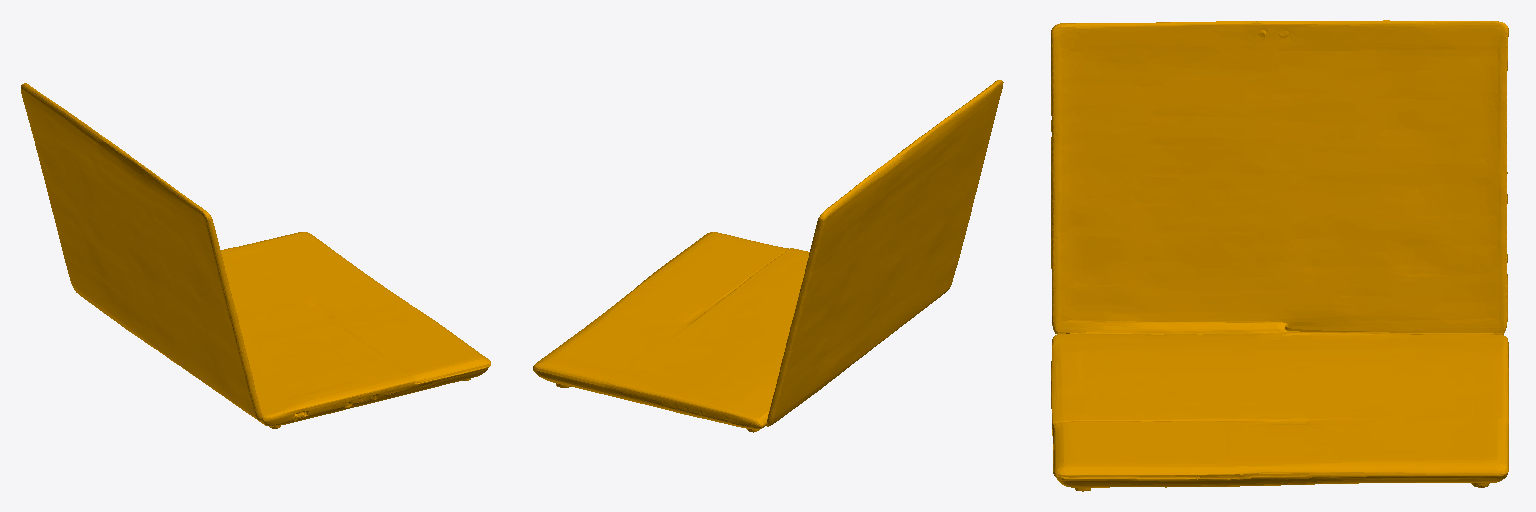
The robot description file, URDF, robot "sample":
<?xml version="1.0" ?>
<robot name="sample">
   <link name="sample">
      <visual>
         <origin xyz="0 0 0" rpy="1.5708 0.0 0.0"/>
         <geometry>
            <mesh filename="mesh/sample.obj" scale="1.0 1.0 1.0"/>
         </geometry>
      </visual>
      <collision>
         <origin xyz="0 0 0" rpy="1.5708 0.0 0.0"/>
         <geometry>
            <mesh filename="mesh/sample_collision.obj" scale="1.0 1.0 1.0"/>
         </geometry>
         <gazebo>
            <mu1>0.70</mu1>
            <mu2>0.55</mu2>
         </gazebo>
      </collision>
      <inertial>
         <mass value="2.0000"/>
         <origin xyz="0 0 0"/>
         <inertia ixx="1.0" ixy="0.0" ixz="0.0" iyy="1.0" iyz="0.0" izz="1.0"/>
      </inertial>
      <extra_info>
         <scale>0.444201</scale>
         <version>v0.1.7</version>
         <category>laptop</category>
         <description>open laptop with colorful screen and black keyboard</description>
         <min_height>0.3</min_height>
         <max_height>0.35</max_height>
         <real_height>0.325</real_height>
         <min_mass>1.5</min_mass>
         <max_mass>2.5</max_mass>
         <generate_time>20260401100610</generate_time>
         <gs_model>mesh/sample_gs.ply</gs_model>
      </extra_info>
   </link>
   <custom_data>
      <quality>
         <MeshGeoChecker>YES</MeshGeoChecker>
         <ImageSegChecker>NO, object is not fully centered and has visible background artifacts around edges.</ImageSegChecker>
         <ImageAestheticChecker>5.008011698722839</ImageAestheticChecker>
         <overall>NO</overall>
      </quality>
   </custom_data>
</robot>

--- Render facts (derived) ---
Views: 3 orthographic renders of the robot side by side, from view 1: azimuth 30°, elevation 25°; view 2: azimuth 150°, elevation 25°; view 3: azimuth 270°, elevation 25°.
Robot: sample — 1 links, 0 joints (none); root link sample; default pose: all joints at 0.
Visible links, largest first — view 1: sample; view 2: sample; view 3: sample.
Link boxes in pixels (x1=…): sample: x1=21, y1=83, x2=490, y2=428; sample: x1=533, y1=80, x2=1003, y2=432; sample: x1=1051, y1=20, x2=1508, y2=491.
Size in the robot's own frame: 0.4122 by 0.4442 by 0.325 metres.
Meshes: 1 distinct files referenced, 1 mesh visuals loaded (1 OBJ).
